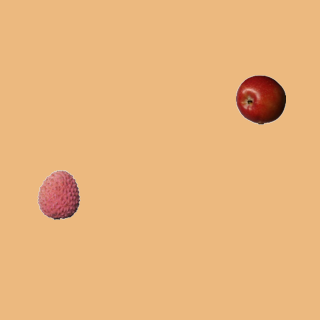Apple Braeburn: (235, 74, 285, 124)
Lychee: (33, 169, 83, 219)
